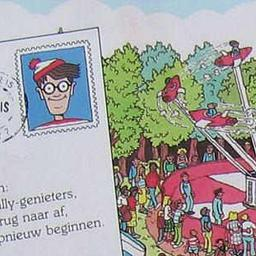waldo: (26, 58, 93, 128)
